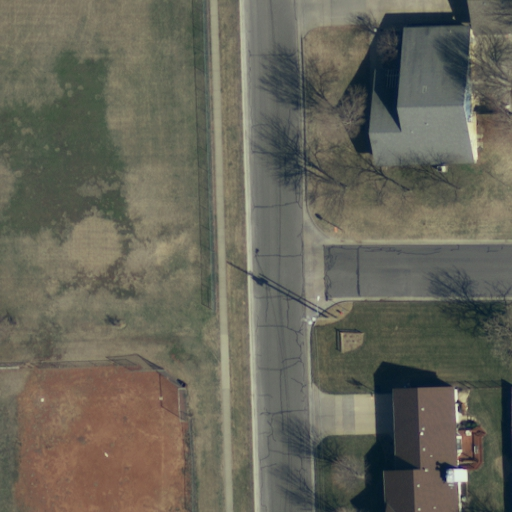DT: (301, 298, 339, 334)
